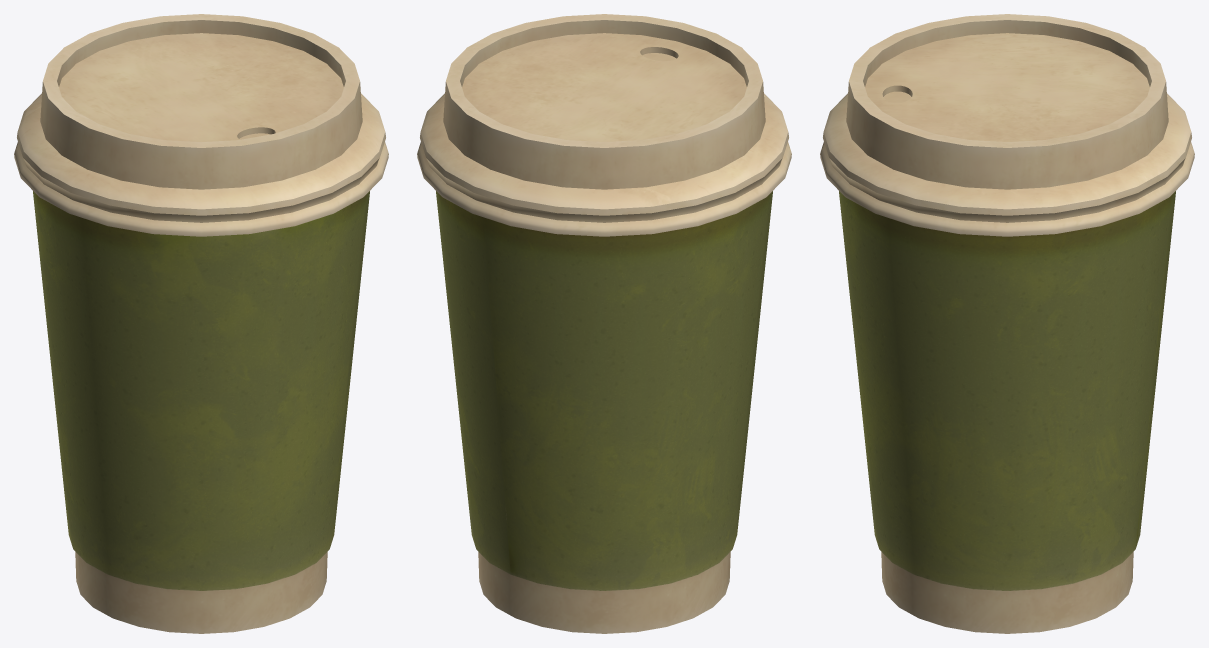
The model's file is cup.glb.
3 views of the same model, side by side, from view 1: azimuth 30°, elevation 25°; view 2: azimuth 150°, elevation 25°; view 3: azimuth 270°, elevation 25° (orthographic).
Parts seen in each view (by area): view 1: cup_coffee.003; view 2: cup_coffee.003; view 3: cup_coffee.003.
Boxes of the visible parts, left/top/right/bottom form: cup_coffee.003: left=14, top=14, right=388, bottom=633; cup_coffee.003: left=417, top=14, right=791, bottom=633; cup_coffee.003: left=820, top=14, right=1194, bottom=633.
Size of the model in its own units: 0.0655 by 0.0964 by 0.0655.
Materials: 1 (1 with a texture image).
